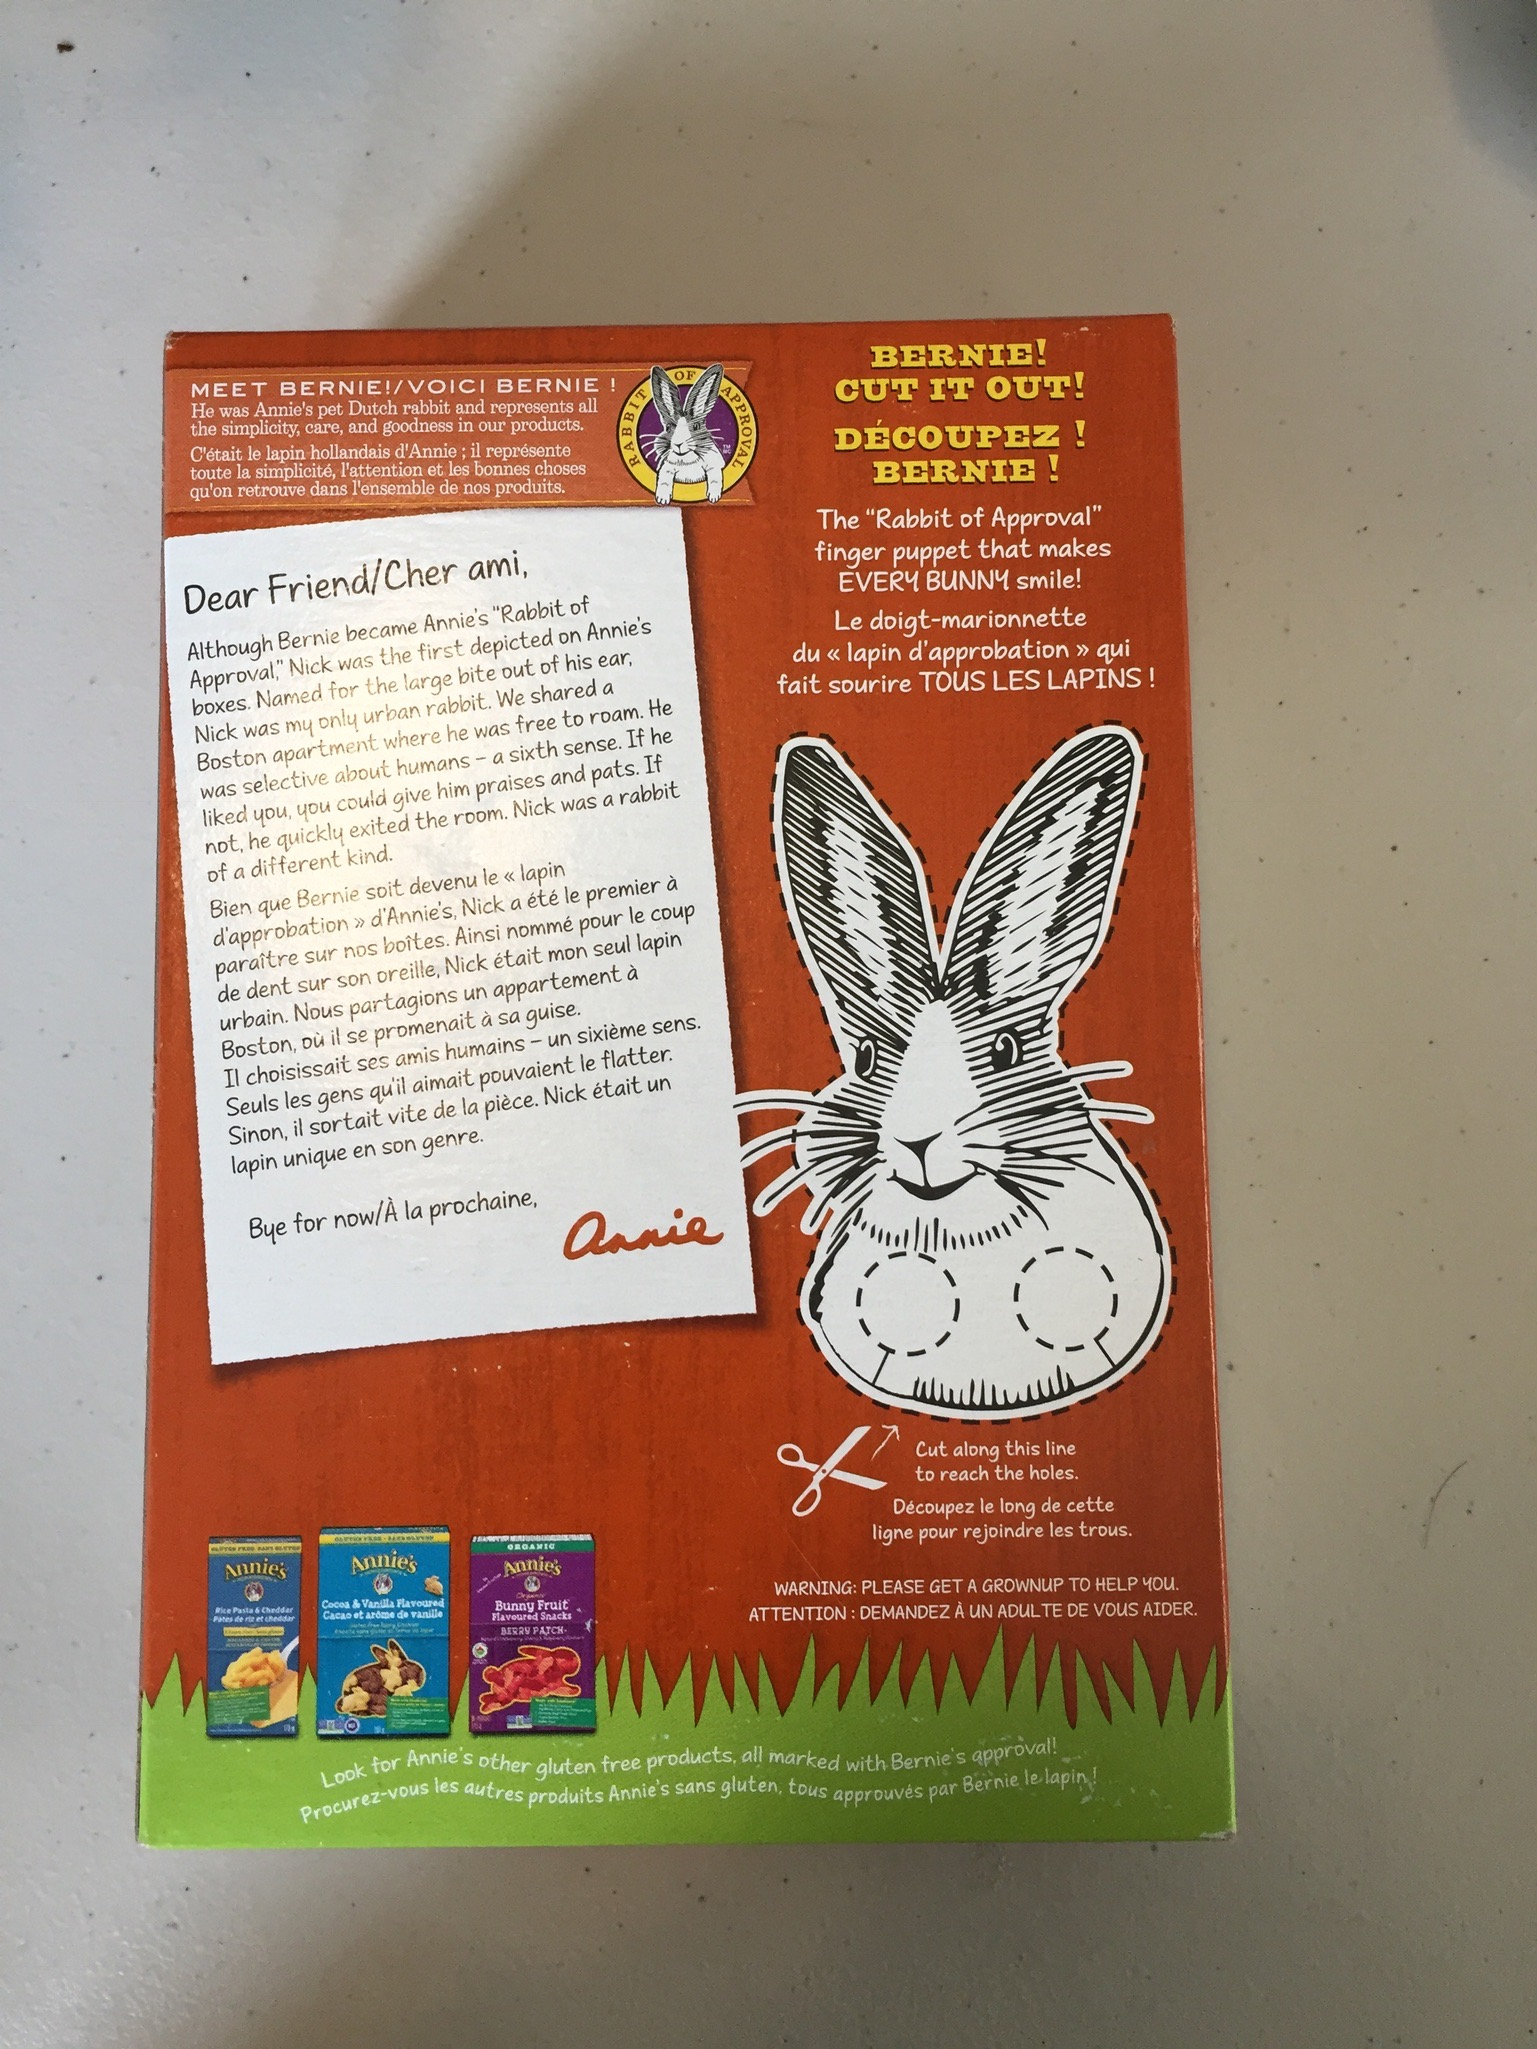annies_snickerdoodles_cinnamon_sugar: (168, 342, 1161, 1826)
